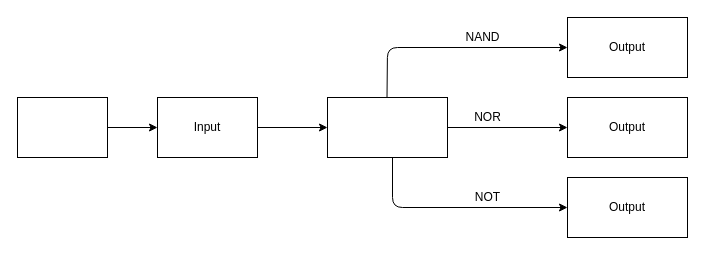
Some shapes in this 705 by 255 pixel diagram are drawn without their labels. Each missing label, with the centre of its shape:
Select one input: point 387,127
User: point 62,127
